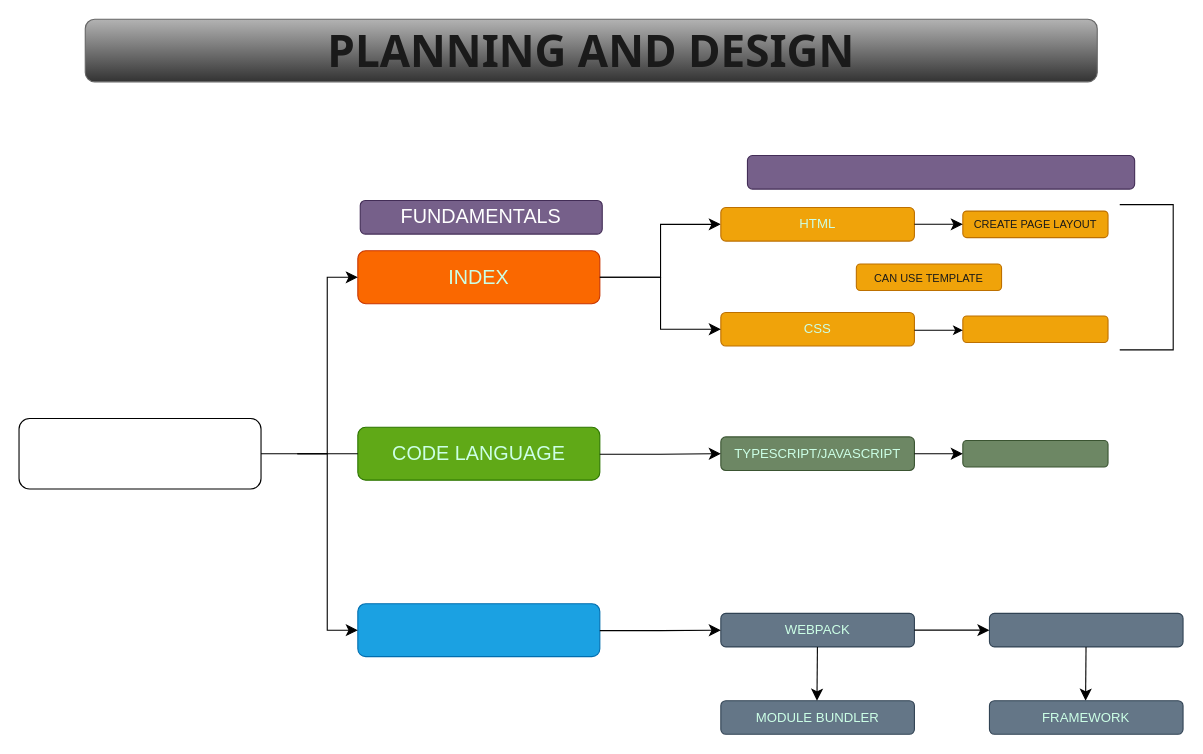
This 1203x754 diagram has some shape labels left out. Here are the shapes that lost their labels. From the top down, the centre of each, then its label:
At (940,171): "FOUNDATION".
At (1035,329): "STYLE PAGE LAYOUT".
At (139,453): "TECH STACK".
At (1035,453): "USE TYPESCRIPT COMPILED TO JAVASCRIPT".
At (478,630): "FRAMEWORK & TOOLS".
At (1085,629): "REACT".
